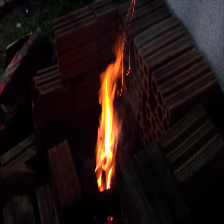fire_h: (95, 30, 125, 191)
fire_l: (127, 1, 135, 17), (127, 52, 131, 76), (108, 217, 113, 222)
